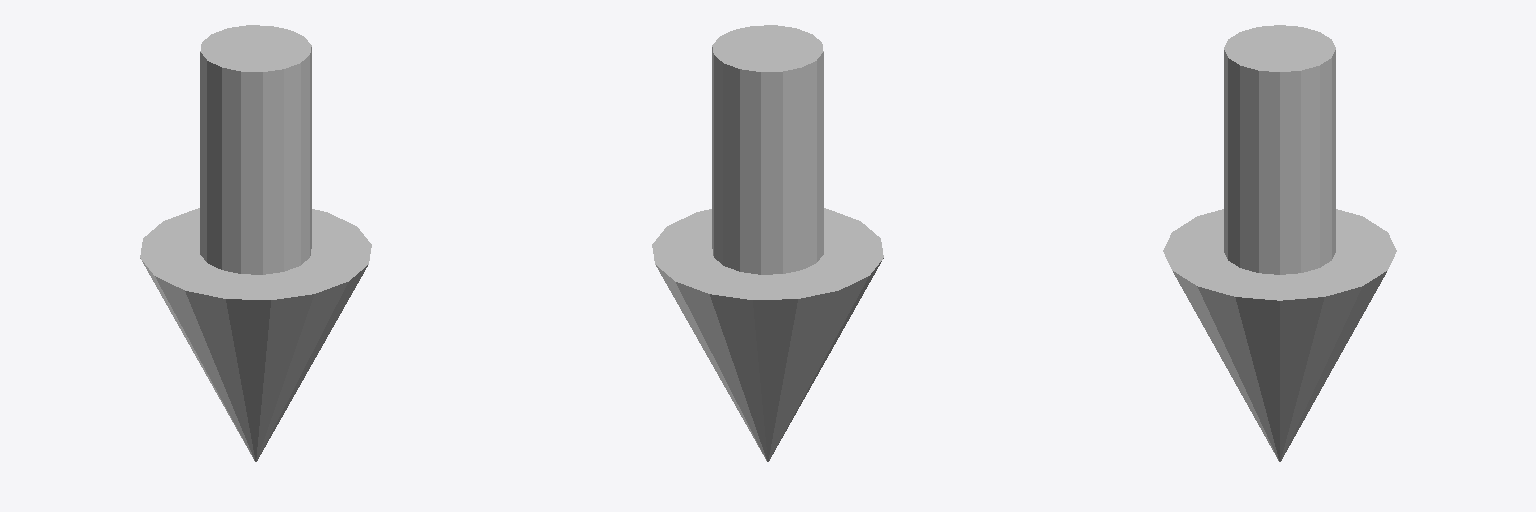
Rendered from arrow.obj.
The picture shows the model from 3 angles: view 1: azimuth 30°, elevation 25°; view 2: azimuth 150°, elevation 25°; view 3: azimuth 270°, elevation 25°; orthographic projection.
Parts seen in each view (by area): view 1: cone1; view 2: cone1; view 3: cone1.
Part boxes in pixels (x1,y1,x2,y2): cone1: (140,25,371,461); cone1: (652,25,883,461); cone1: (1163,25,1396,461).
Size of the model in its own units: 2 by 3.91 by 2.